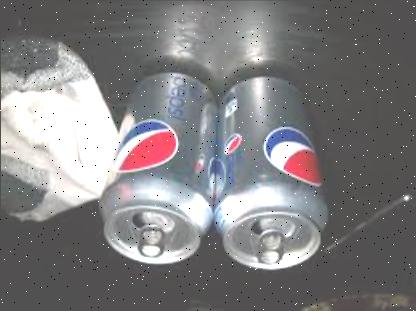Can: (99, 73, 218, 264), (214, 75, 328, 268)
